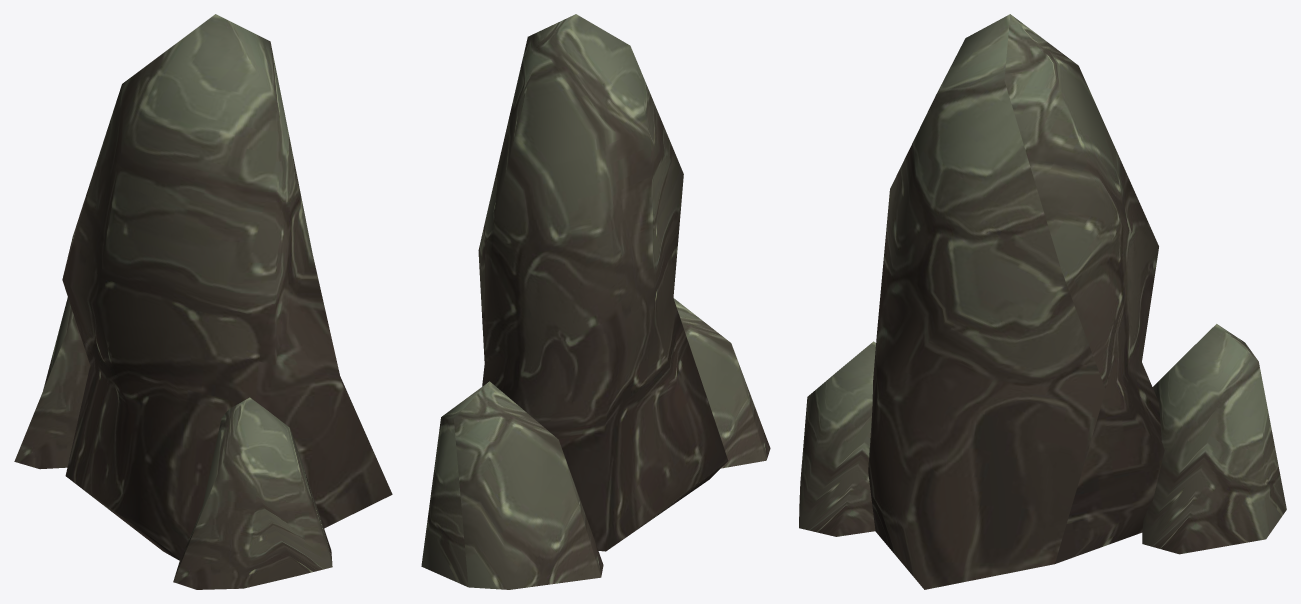
File: Mesh_LargeRock_01.FBX
3 renders of one model, left to right at view 1: azimuth 30°, elevation 25°; view 2: azimuth 150°, elevation 25°; view 3: azimuth 270°, elevation 25°, orthographic. The views are drawn at different scales.
Visible parts, largest first — view 1: LargeRock_01; view 2: LargeRock_01; view 3: LargeRock_01.
Boxes of the visible parts, left/top/right/bottom form: LargeRock_01: left=14, top=14, right=392, bottom=589; LargeRock_01: left=421, top=14, right=770, bottom=589; LargeRock_01: left=799, top=14, right=1286, bottom=589.
Bounding box in the file's own units: 51.95 × 93.98 × 81.92.
